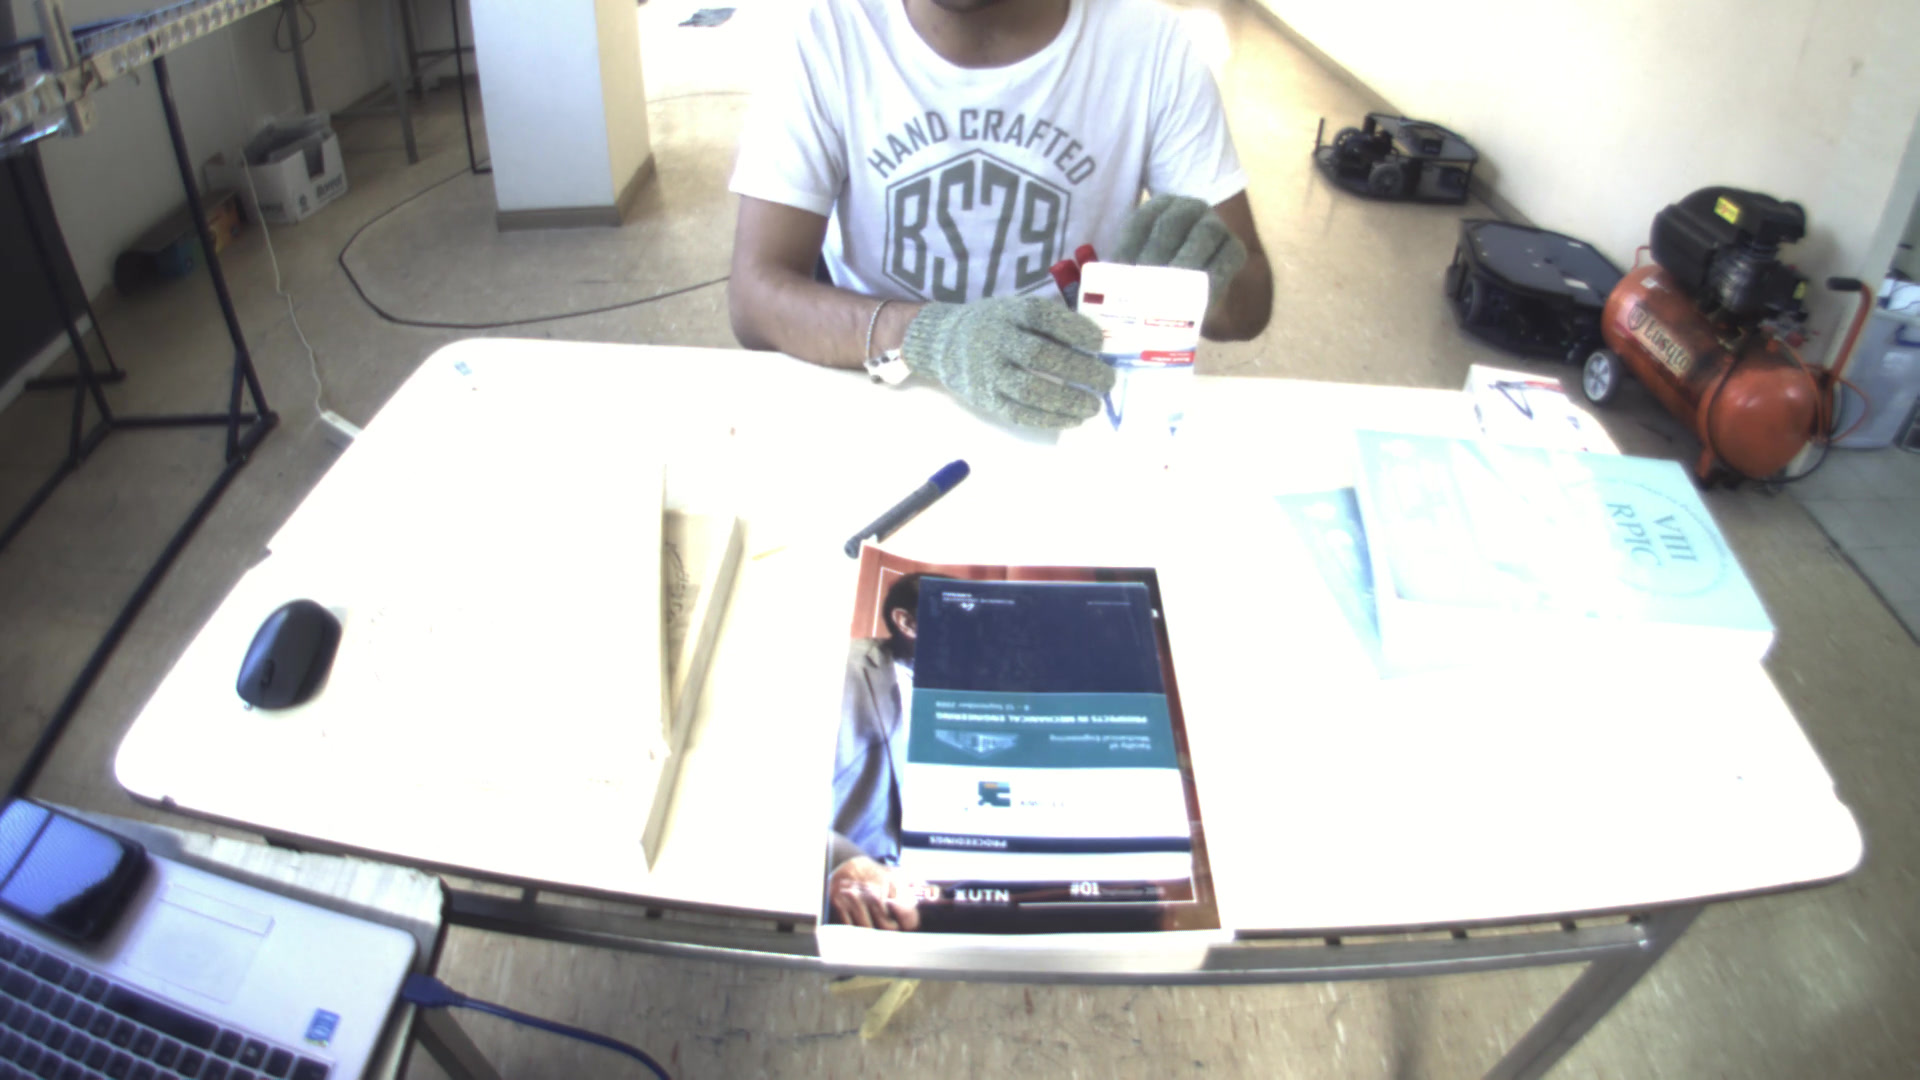hand: (880, 273, 1127, 430), (1120, 185, 1251, 291)
